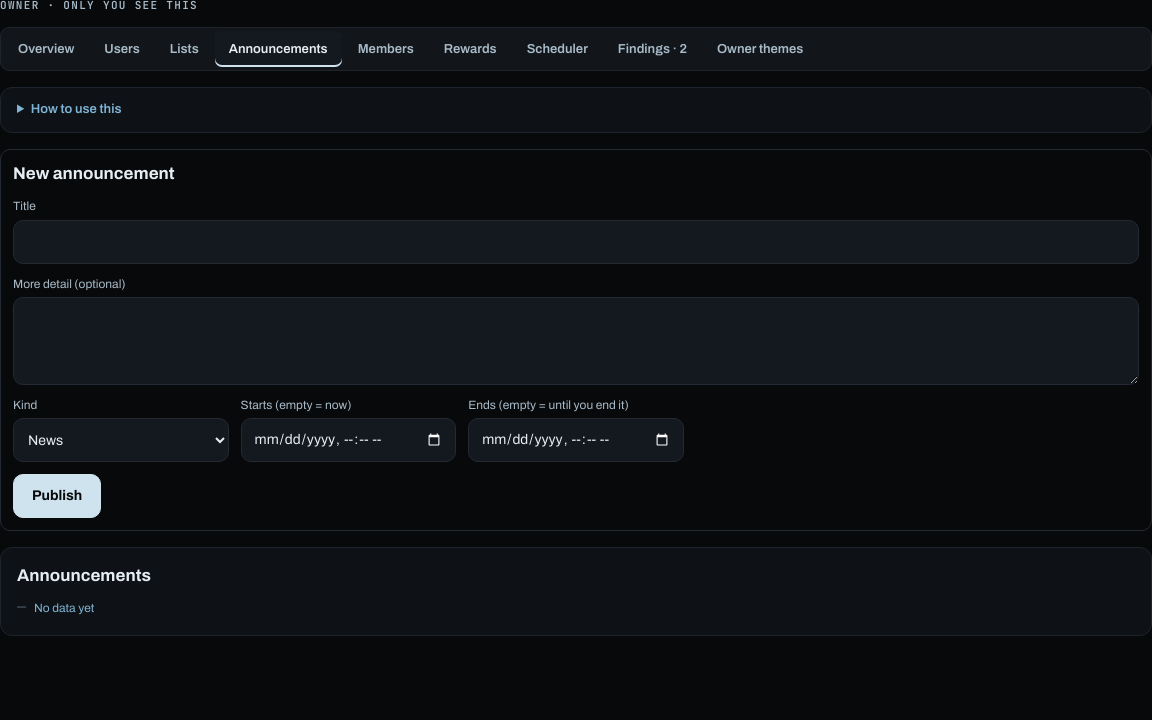
Test: Owner console · Announcements › publishes one to everyone and ends it now
The image size is (1152, 720).
Check: the text "No data yet" is shown, box [34,600,94,617]
In the field labelled "Title": (576, 242) [13,220,1139,264], type "Servers down Friday"
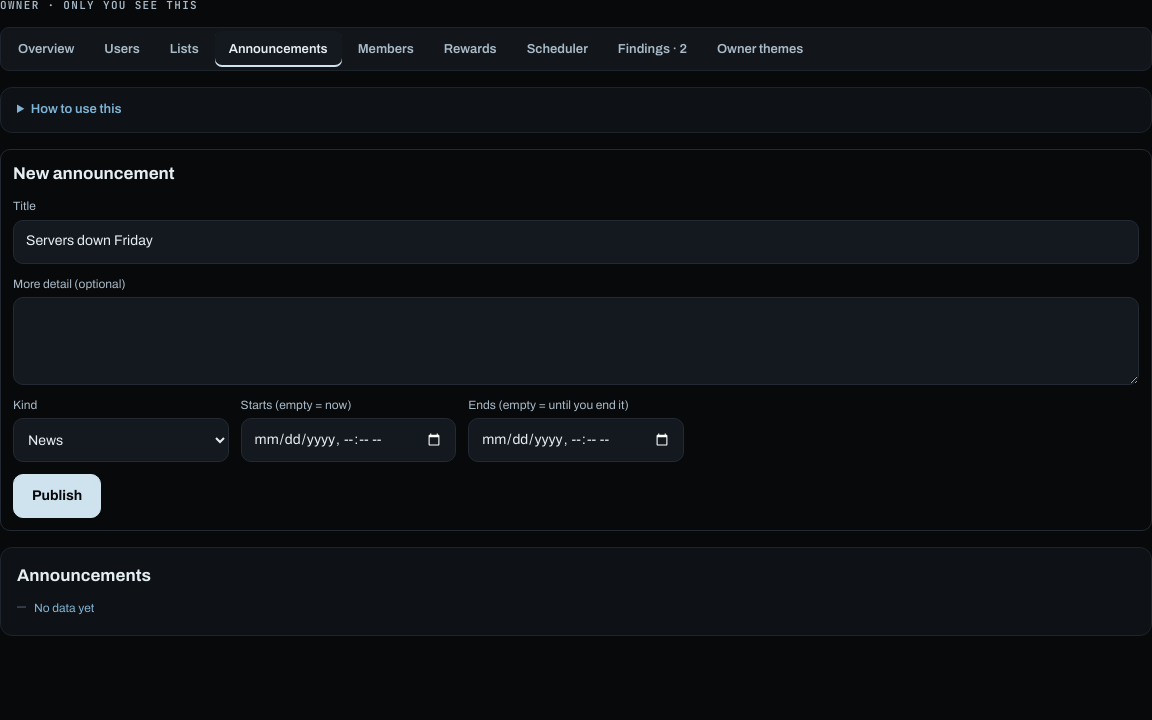
Select "Heads up (problem, downtime)" in the dropdown labelled "Kind": (121, 440) [13,418,229,462]
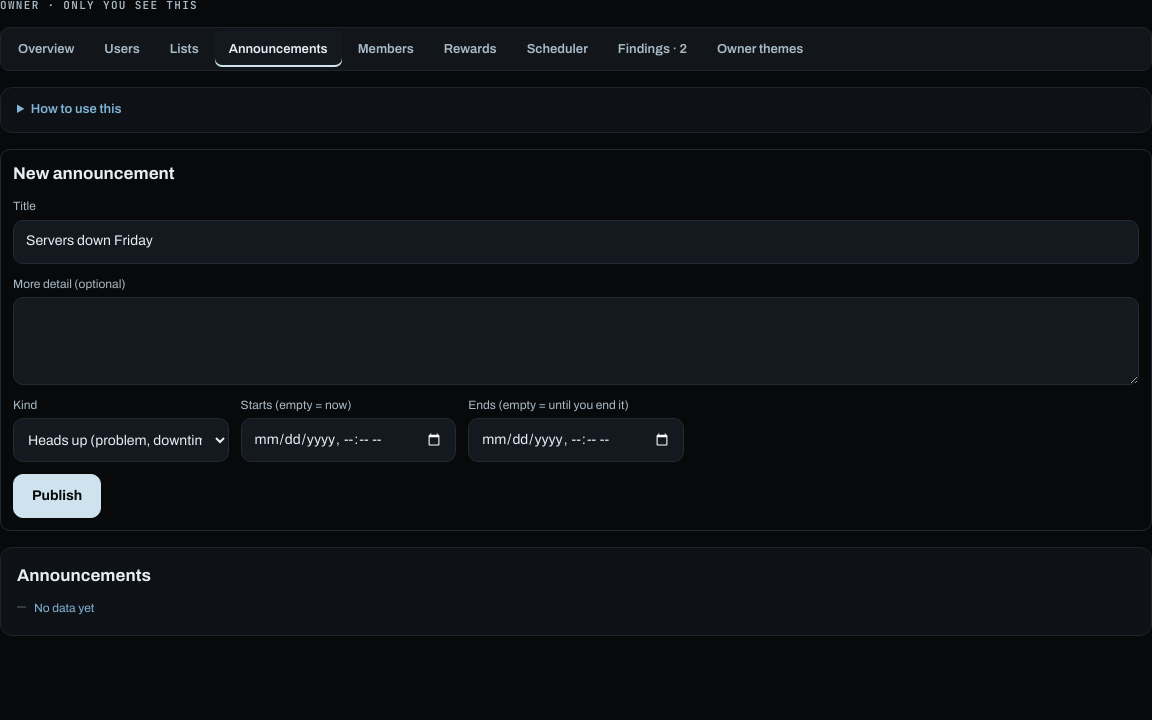
Click the button "Publish": (57, 496) [13,474,101,518]
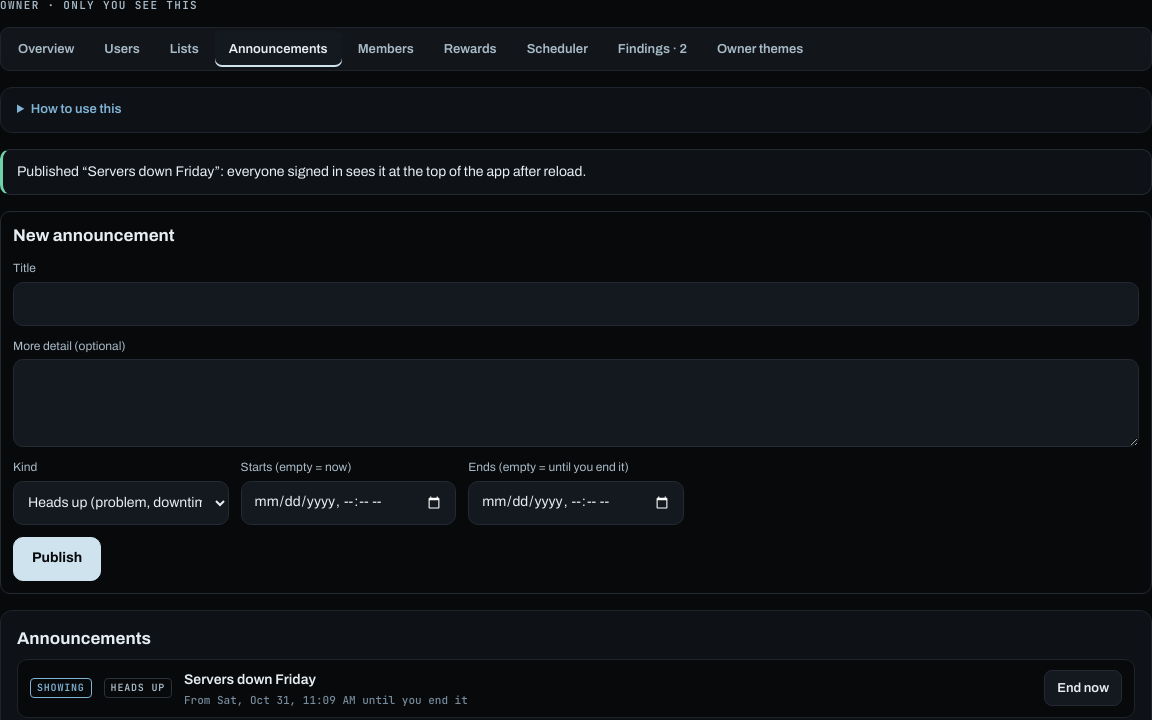
Check: the message shows "everyone signed in sees it", box [17,164,586,178]
Check: the text "SHOWING" is shown, box [30,678,92,698]
Click the button with aria-label "End now: Servers down Friday": (1083, 688) [1044,670,1122,706]
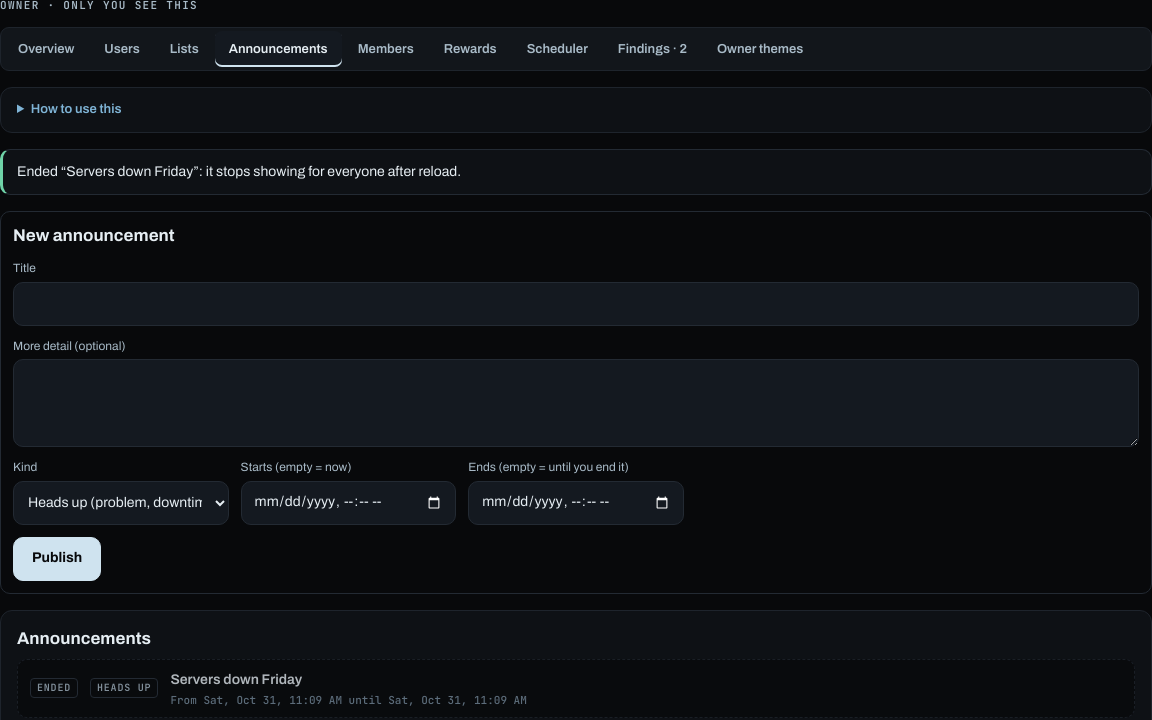
Check: the text "ENDED" is shown, box [30,678,78,698]
